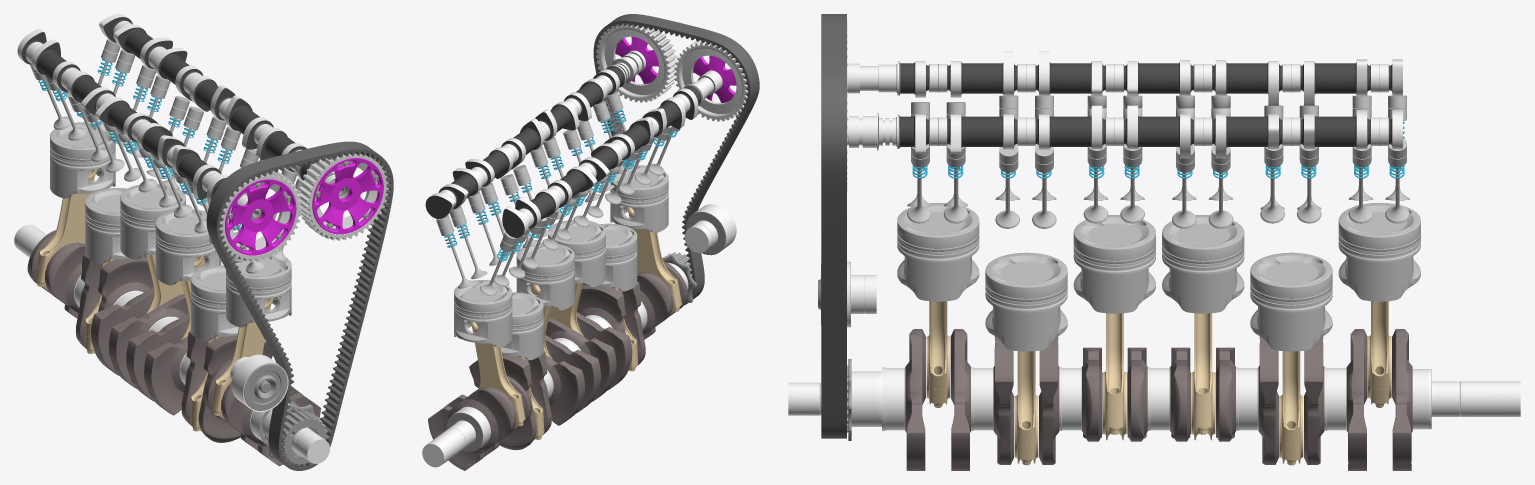
File: 2jz-ge_engine.glb
3 renders of one model, left to right at view 1: azimuth 30°, elevation 25°; view 2: azimuth 150°, elevation 25°; view 3: azimuth 270°, elevation 25°, orthographic. The views are drawn at different scales.
Parts seen in each view (by area): view 1: Courroie, Circle.003, Circle.004, Piston.005, Circle.045, Circle.047, Piston.002, Circle.001, Circle.005, Piston, Piston.003, Cylinder.042 (×2) (+32 smaller); view 2: Courroie, Circle.006, Circle.004, Piston.005, Circle.003, Gear.002, Piston.003, Piston, Circle.005, Circle.001, Cylinder (×2), Gear.000 (+31 smaller); view 3: Courroie, Cylinder.001, Piston.001, Piston.004, Piston.002, Piston.003, Piston.005, Piston, Circle.006, Circle.002, Circle.005, Circle.001 (+42 smaller).
Boxes of the visible parts, left/top/right/bottom form: Courroie: left=206, top=141, right=393, bottom=470; Circle.003: left=126, top=313, right=188, bottom=415; Circle.004: left=91, top=287, right=188, bottom=388; Piston.005: left=50, top=122, right=115, bottom=198; Circle.045: left=312, top=158, right=383, bottom=234; Circle.047: left=225, top=179, right=296, bottom=255; Piston.002: left=155, top=209, right=221, bottom=285; Circle.001: left=181, top=330, right=272, bottom=442; Circle.005: left=76, top=253, right=153, bottom=348; Piston: left=226, top=256, right=291, bottom=327; Piston.003: left=120, top=183, right=185, bottom=259; Cylinder.042 (×2): left=230, top=354, right=288, bottom=411; Courroie: left=593, top=14, right=759, bottom=305; Circle.006: left=428, top=376, right=531, bottom=470; Circle.004: left=545, top=335, right=600, bottom=425; Piston.005: left=454, top=280, right=512, bottom=347; Circle.003: left=545, top=312, right=632, bottom=401; Gear.002: left=596, top=23, right=677, bottom=102; Piston.003: left=516, top=242, right=574, bottom=310; Piston: left=610, top=165, right=668, bottom=233; Circle.005: left=469, top=350, right=551, bottom=450; Circle.001: left=576, top=282, right=645, bottom=366; Cylinder (×2): left=422, top=406, right=490, bottom=467; Gear.000: left=674, top=40, right=747, bottom=121; Courroie: left=821, top=14, right=846, bottom=438; Cylinder.001: left=882, top=367, right=1346, bottom=430; Piston.001: left=985, top=252, right=1067, bottom=351; Piston.004: left=1250, top=252, right=1332, bottom=351; Piston.002: left=1073, top=215, right=1155, bottom=313; Piston.003: left=1162, top=215, right=1244, bottom=313; Piston.005: left=1338, top=202, right=1420, bottom=301; Piston: left=897, top=202, right=979, bottom=301; Circle.006: left=1347, top=329, right=1412, bottom=470; Circle.002: left=905, top=329, right=970, bottom=470; Circle.005: left=1258, top=336, right=1324, bottom=464; Circle.001: left=993, top=336, right=1059, bottom=464.
Bounding box in the file's own units: 0.2678 × 0.4846 × 0.7656.
